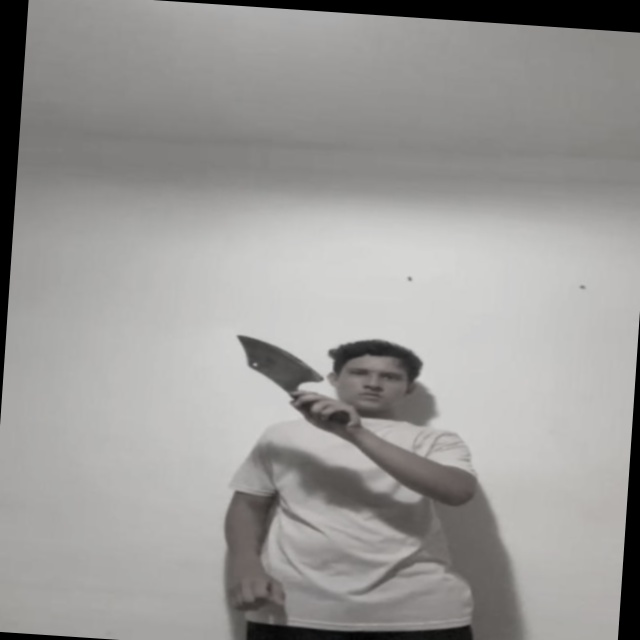Sharp-Object: (238, 333, 322, 387)
